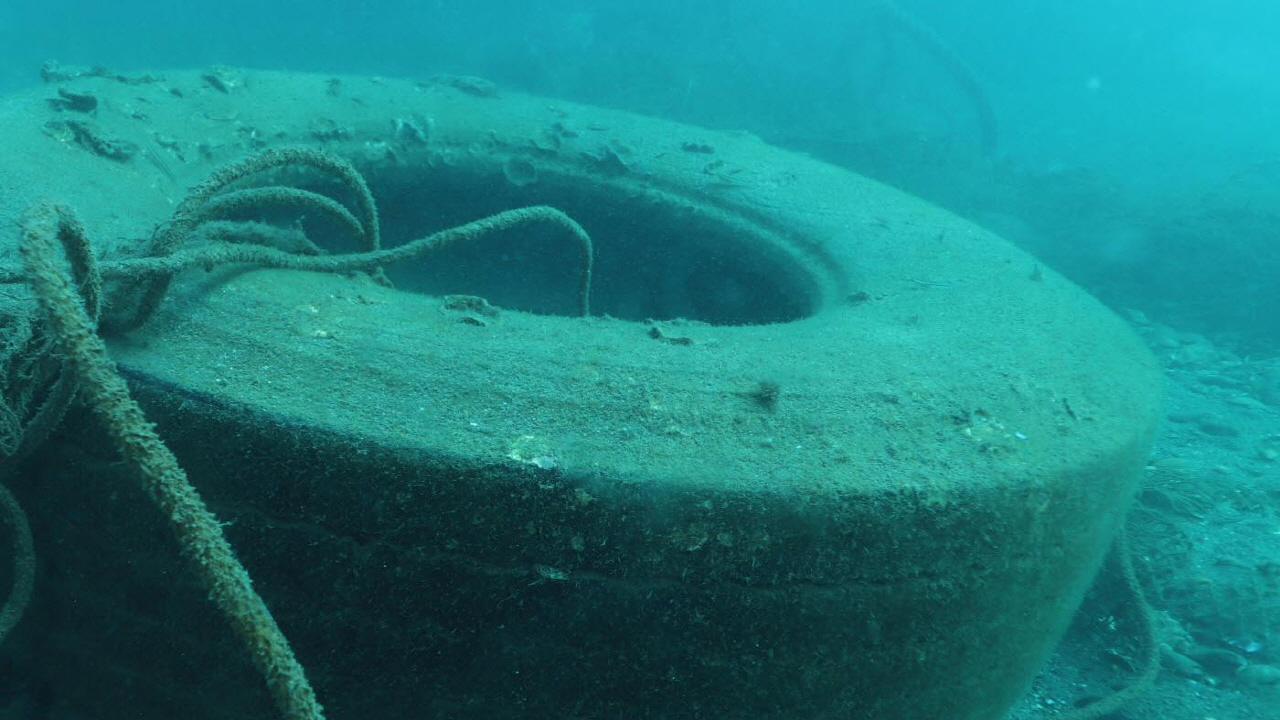bundle of ropes: (0, 145, 596, 719)
tire: (0, 68, 1164, 720)
